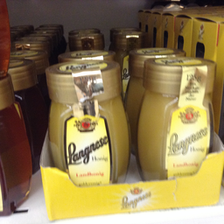honey: (46, 61, 134, 186), (137, 58, 215, 184)
